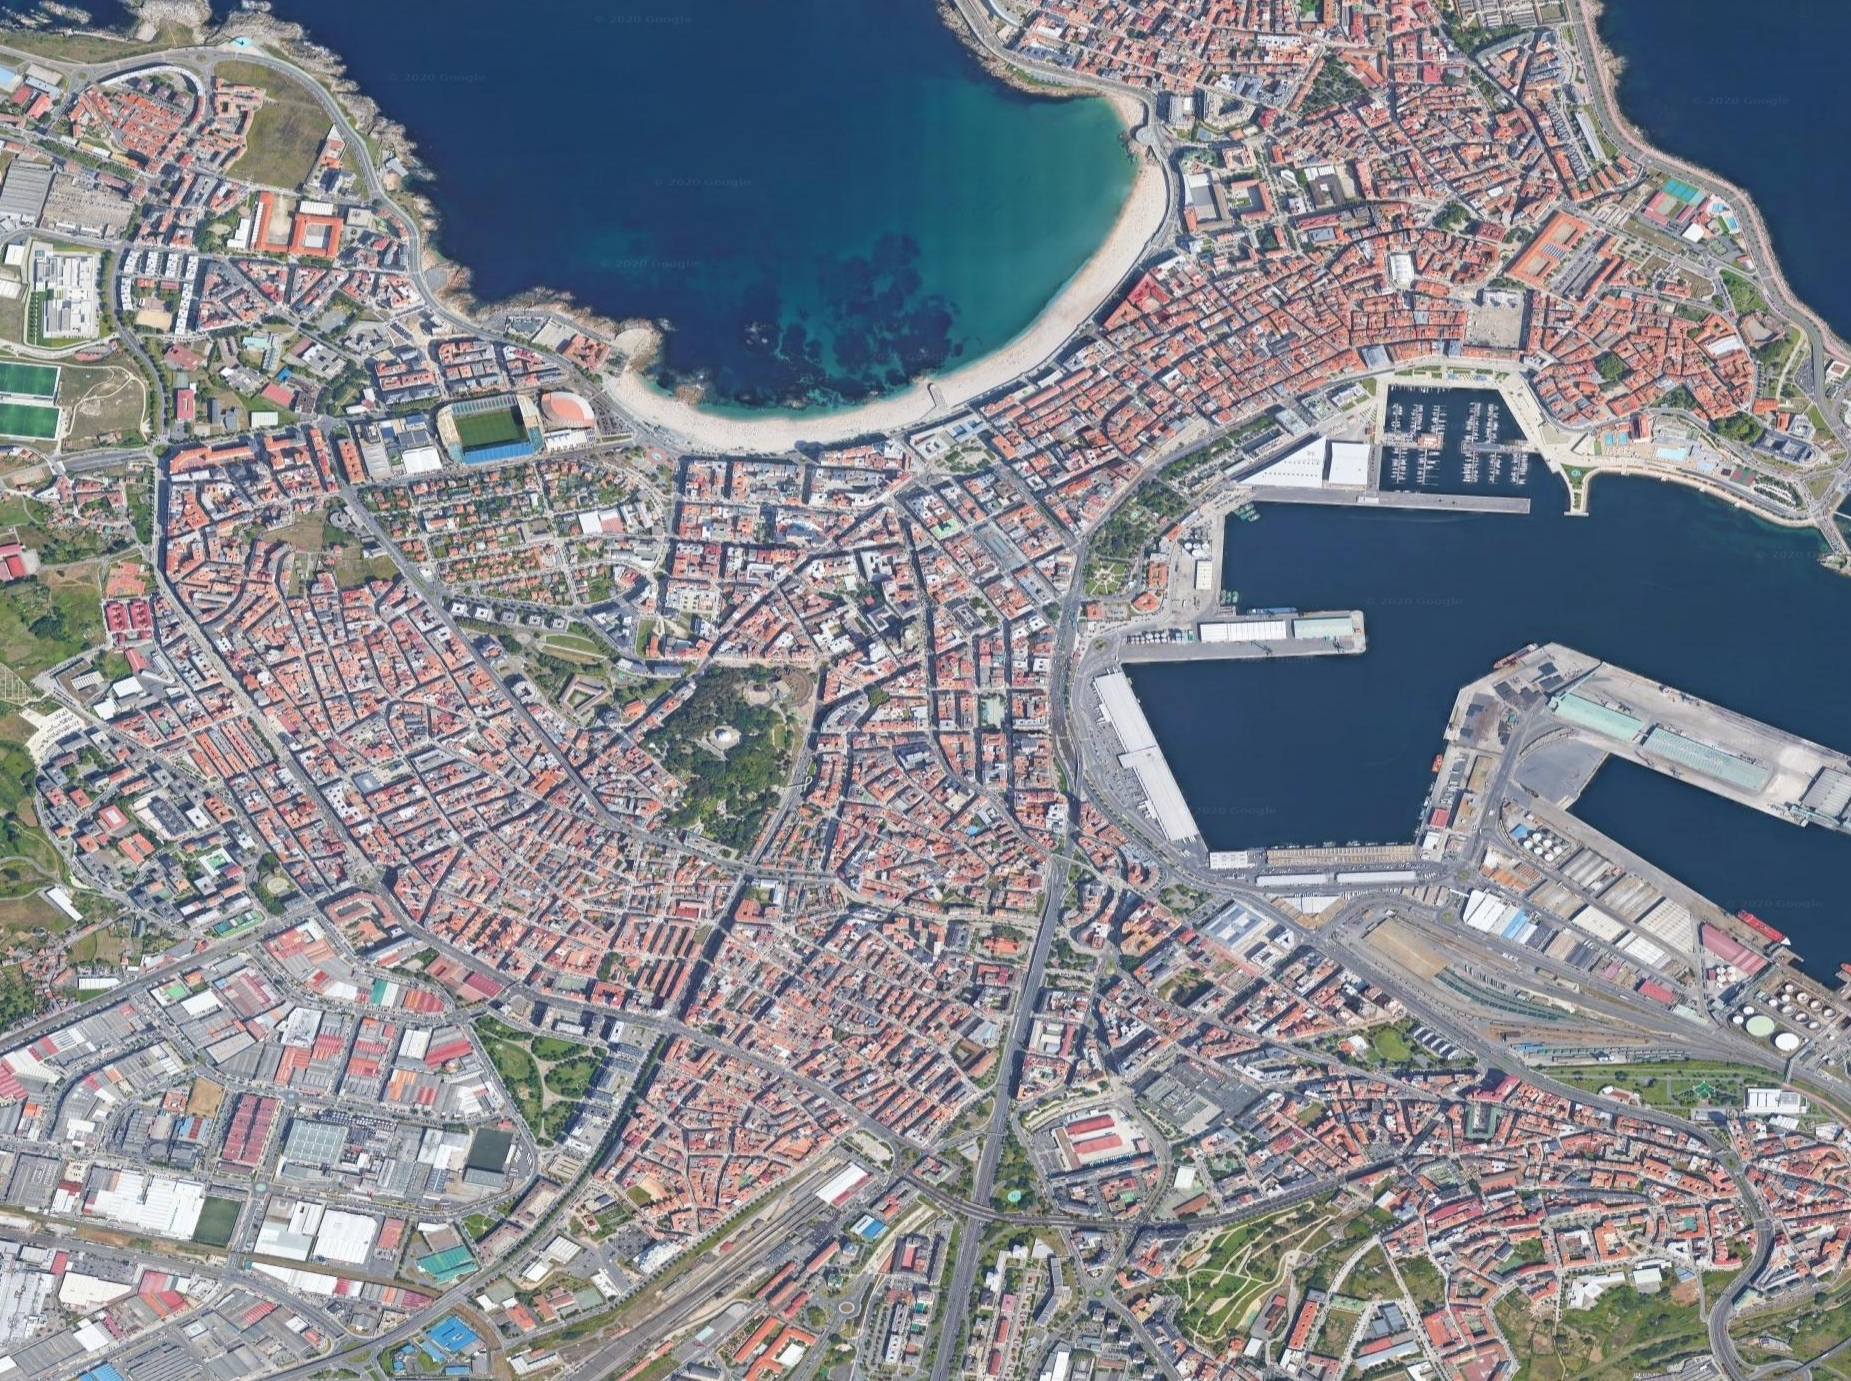harbor: (1082, 363, 1851, 1058)
industrial: (1, 995, 480, 1381)
motorway: (931, 1060, 1052, 1381), (975, 830, 1097, 1100), (1509, 1060, 1744, 1176), (1559, 10, 1697, 184), (1678, 149, 1816, 323), (189, 17, 368, 147), (1, 1, 200, 99), (1703, 1168, 1778, 1381), (335, 118, 434, 247)
